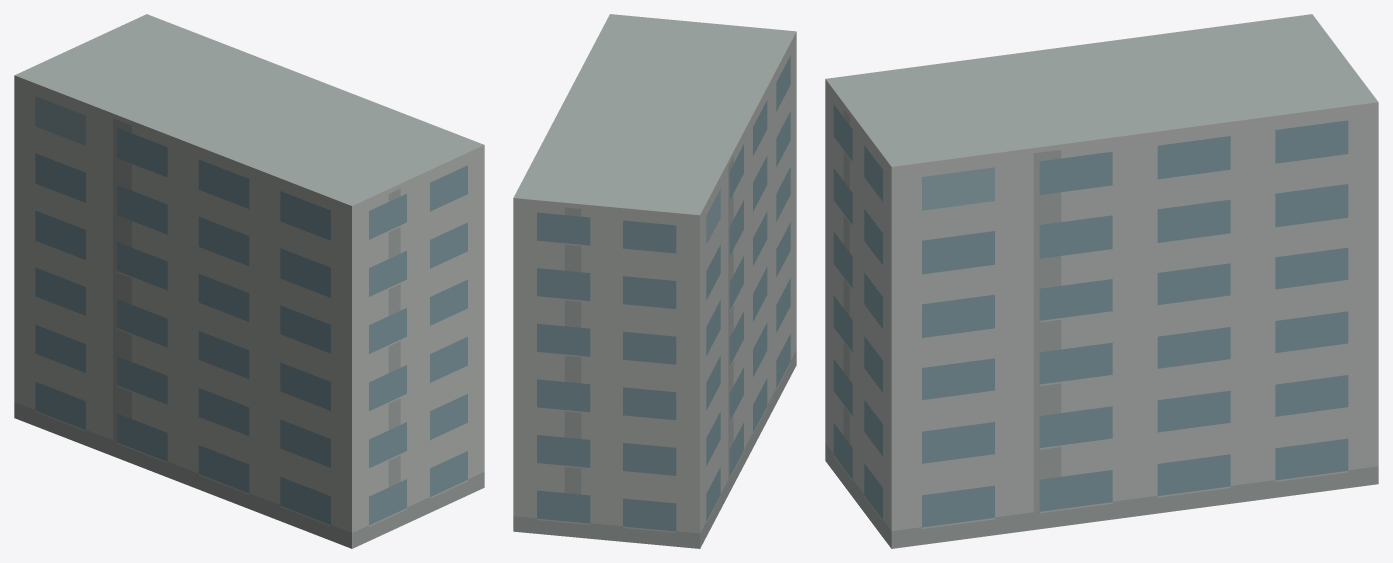
File: survey-upis-32608452.glb
3 views of the same model, side by side, from view 1: azimuth 30°, elevation 25°; view 2: azimuth 150°, elevation 25°; view 3: azimuth 270°, elevation 25° (orthographic). The views are drawn at different scales.
Visible parts, largest first — view 1: survey-upis-32608452.tmp; view 2: survey-upis-32608452.tmp; view 3: survey-upis-32608452.tmp.
Part boxes in pixels (<box>): survey-upis-32608452.tmp: <box>14,14,484,548</box>; survey-upis-32608452.tmp: <box>513,14,796,548</box>; survey-upis-32608452.tmp: <box>825,14,1378,548</box>.
Bounding box in the file's own units: 15.04 × 17.5 × 22.98.
